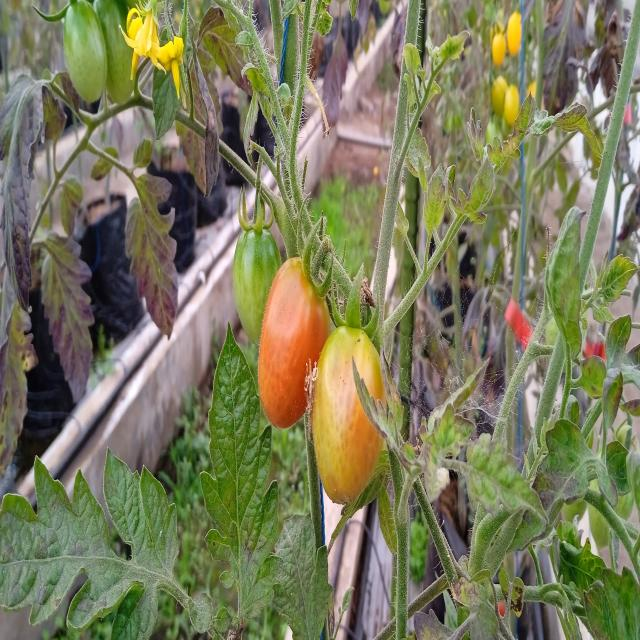fine: (228, 244, 282, 336), (482, 65, 510, 116), (502, 16, 528, 54), (506, 79, 524, 129), (489, 30, 509, 69)
overripe: (312, 315, 384, 513), (268, 218, 324, 444)
unripe: (51, 20, 118, 113), (78, 7, 145, 98)
